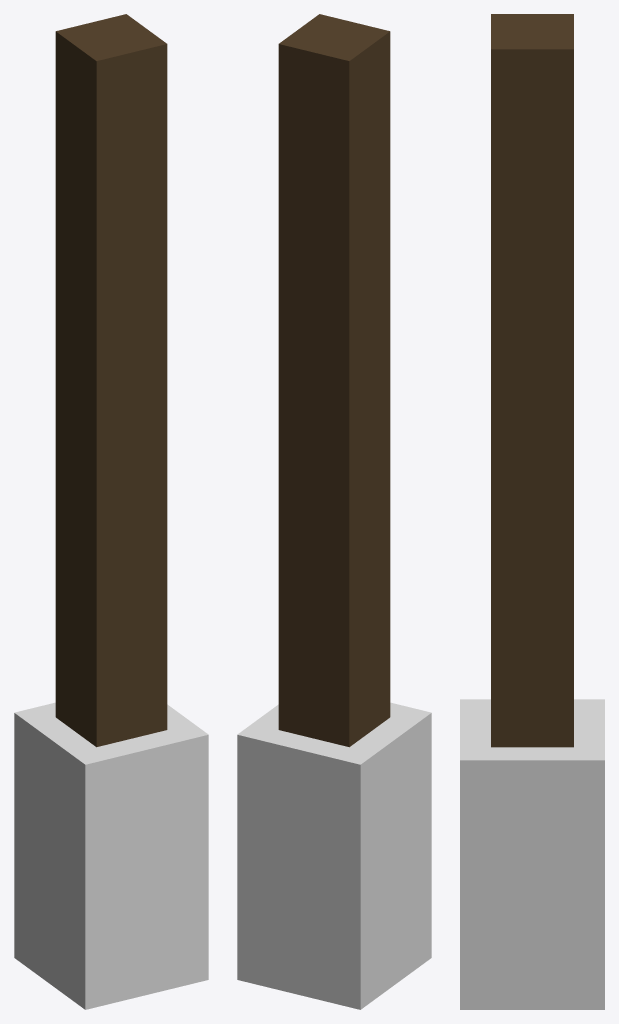
File: pole.glb
The picture shows the model from 3 angles, left to right: view 1: azimuth 30°, elevation 25°; view 2: azimuth 150°, elevation 25°; view 3: azimuth 270°, elevation 25°; orthographic projection.
Parts seen in each view (by area): view 1: pole; view 2: pole; view 3: pole.
Boxes of the visible parts, <box> form: pole: <box>14,14,208,1009</box>; pole: <box>237,14,431,1009</box>; pole: <box>460,14,604,1009</box>.
Bounding box in the file's own units: 24.59 × 177 × 24.59.
